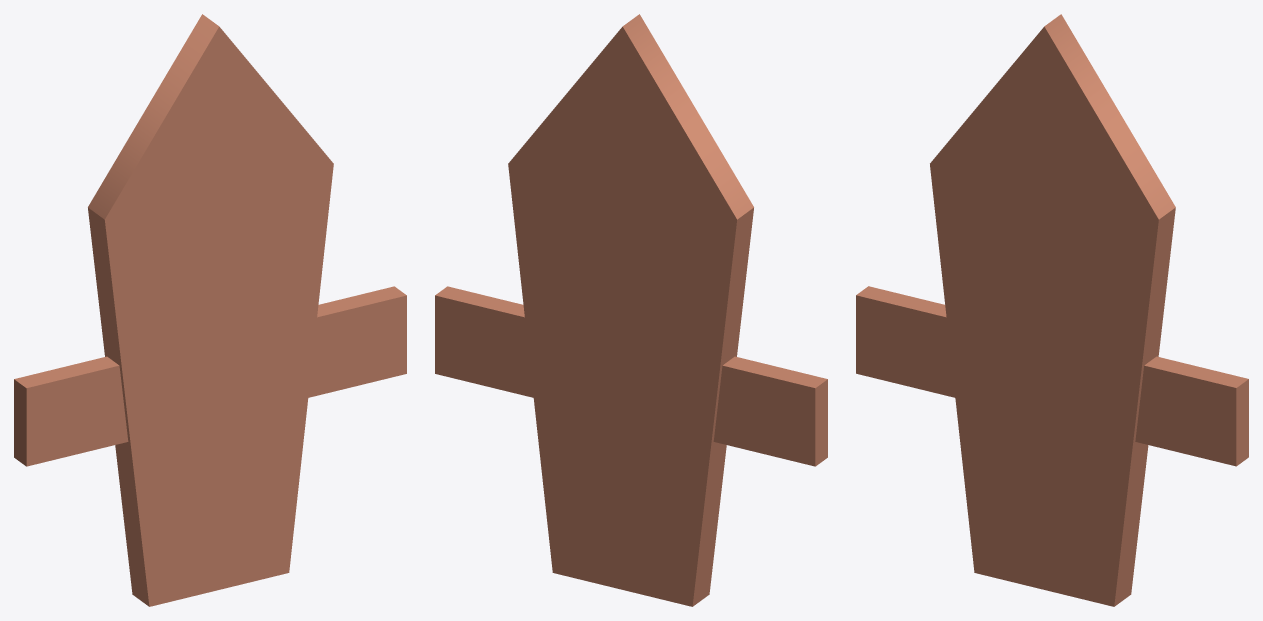
Rendered from Hekje 1.fbx.
3 renders of one model, left to right at view 1: azimuth 30°, elevation 25°; view 2: azimuth 150°, elevation 25°; view 3: azimuth 330°, elevation 25°, orthographic.
Parts seen in each view (by area): view 1: pCube4.006, pCube4.025; view 2: pCube4.006, pCube4.025; view 3: pCube4.006, pCube4.025.
Boxes of the visible parts, x1,y1,x2,y2 form: pCube4.006: (88,14,333,606); pCube4.025: (14,286,406,466); pCube4.006: (508,14,753,606); pCube4.025: (435,286,827,466); pCube4.006: (930,14,1175,606); pCube4.025: (856,286,1248,466).
Size of the model in its own units: 98.99 by 140 by 7.65.
